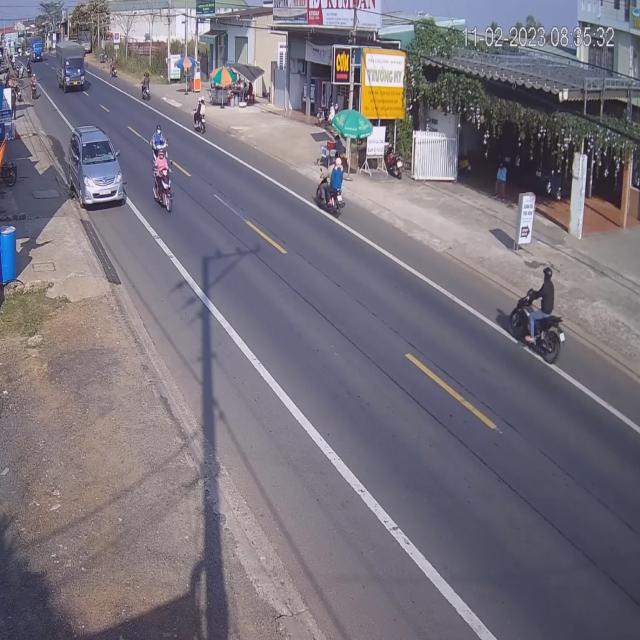car: (68, 128, 124, 210)
motorbike: (512, 268, 568, 367), (318, 165, 347, 222), (153, 150, 173, 214), (150, 125, 170, 171), (191, 97, 205, 136), (140, 72, 150, 102)
truck: (58, 44, 86, 94)
